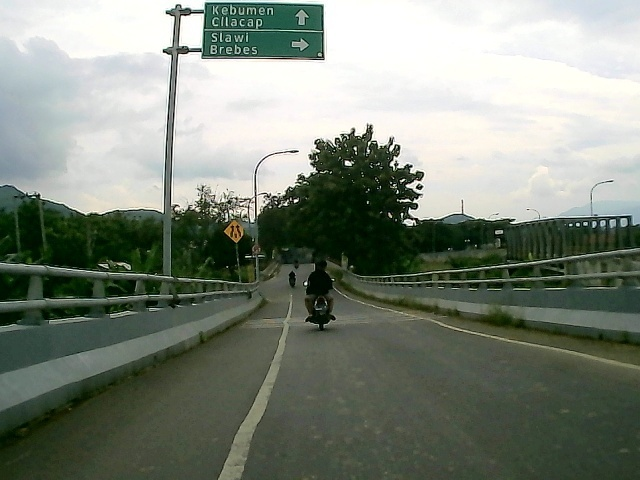Akhir bangunan pemisah satu arah: (223, 219, 247, 246)
